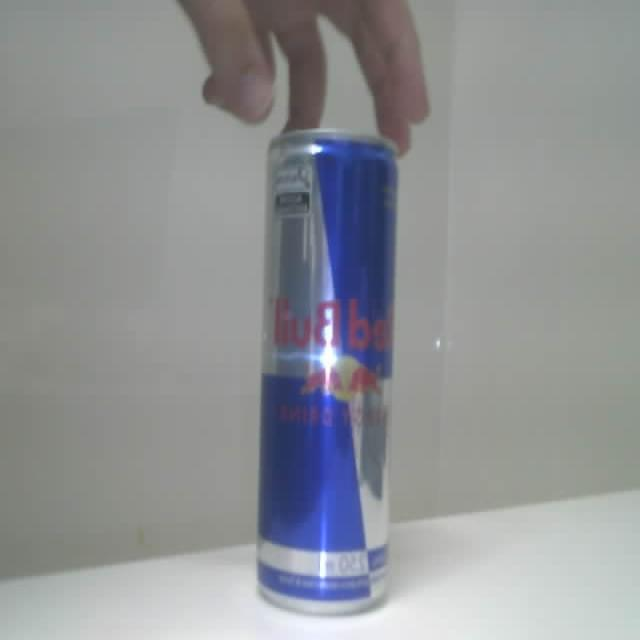redbull can: (258, 130, 396, 614)
